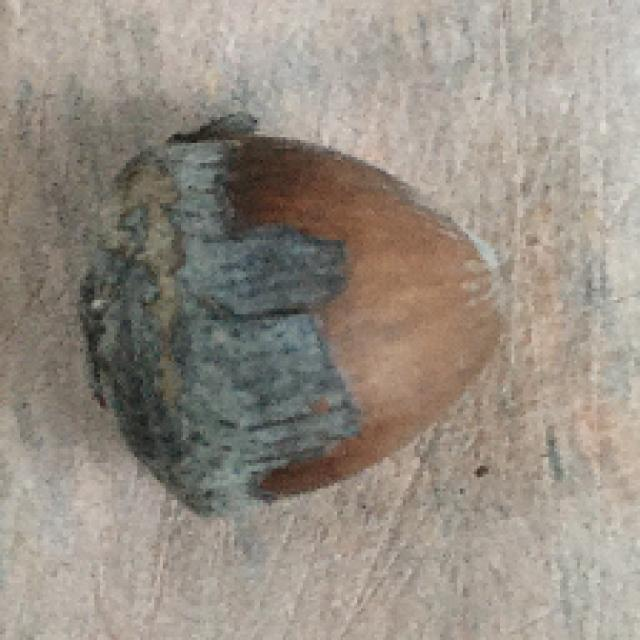DamagedHazelnut: (82, 133, 517, 515)
